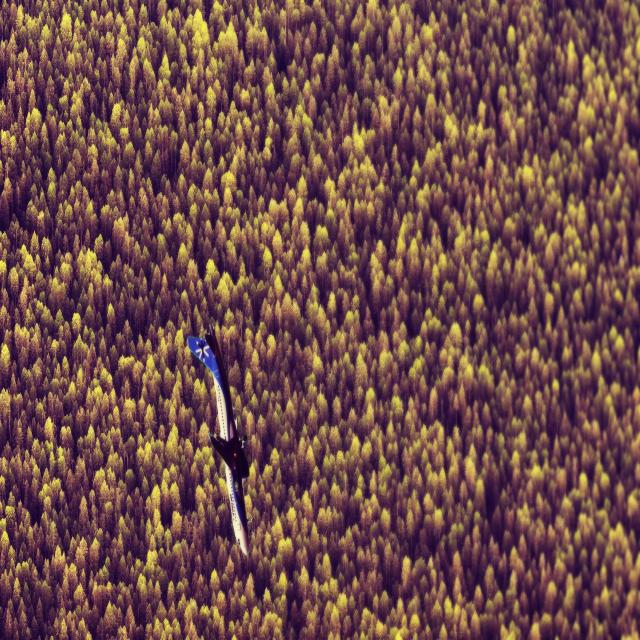airplane: (186, 321, 251, 558)
